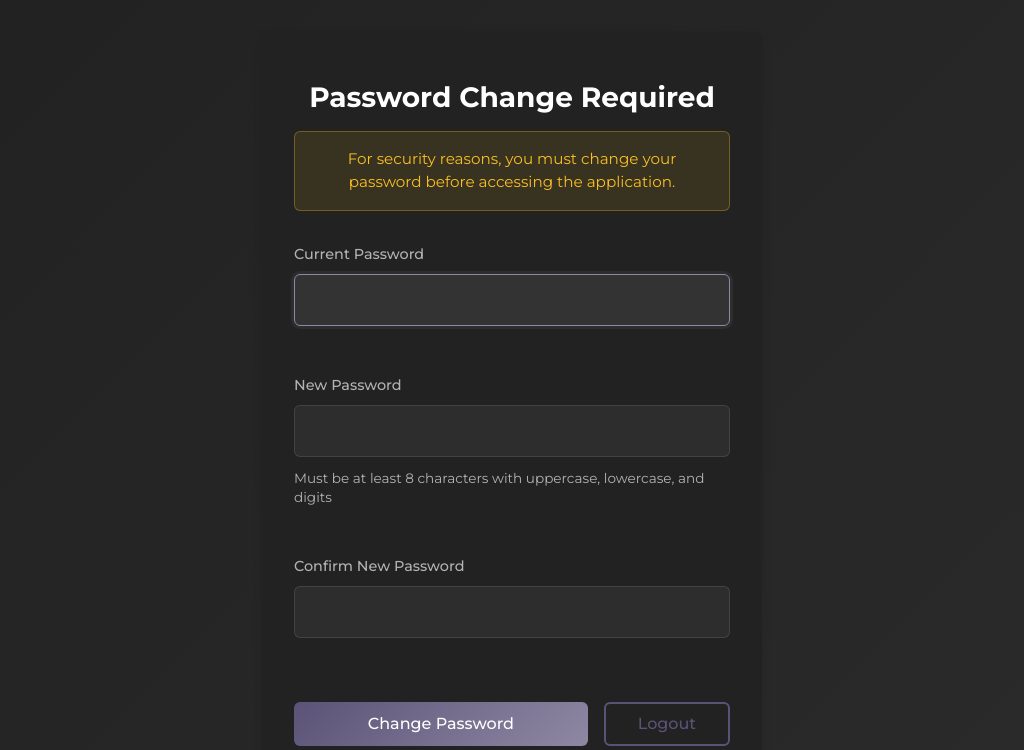
Test: ForcePasswordChangePage › Validation › shows error when password lacks uppercase letter
In the password field labelled "Current Password": [512, 300] box [294,274,730,326], type "OldPass1"
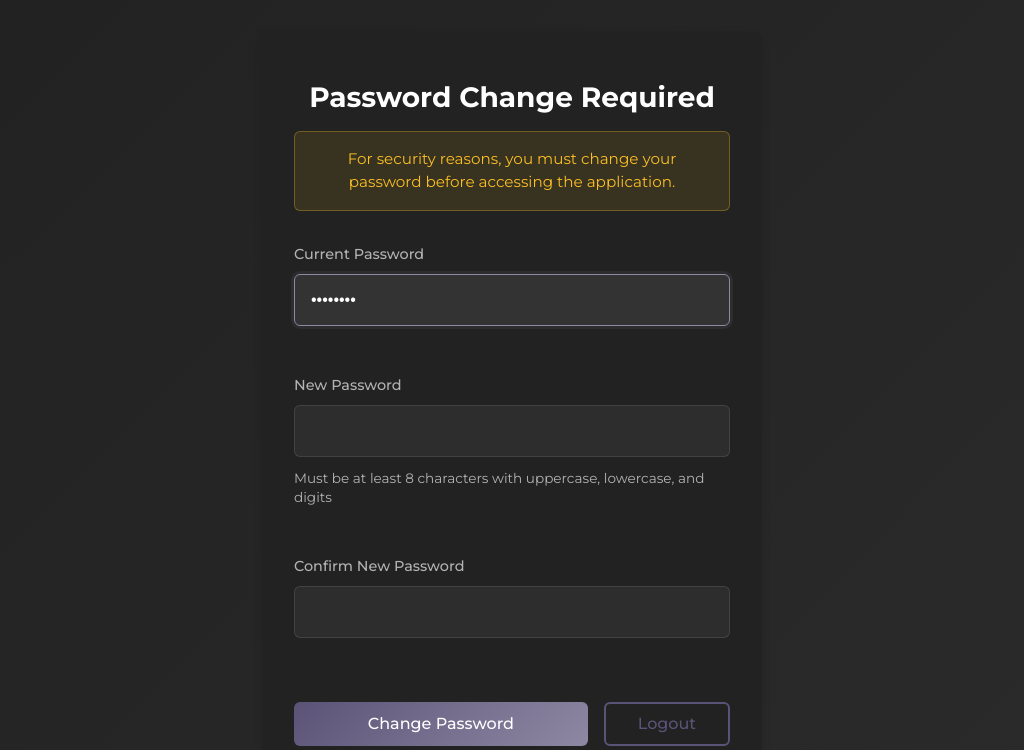
In the password field labelled "New Password": [512, 431] box [294,405,730,457], type "newpass123"
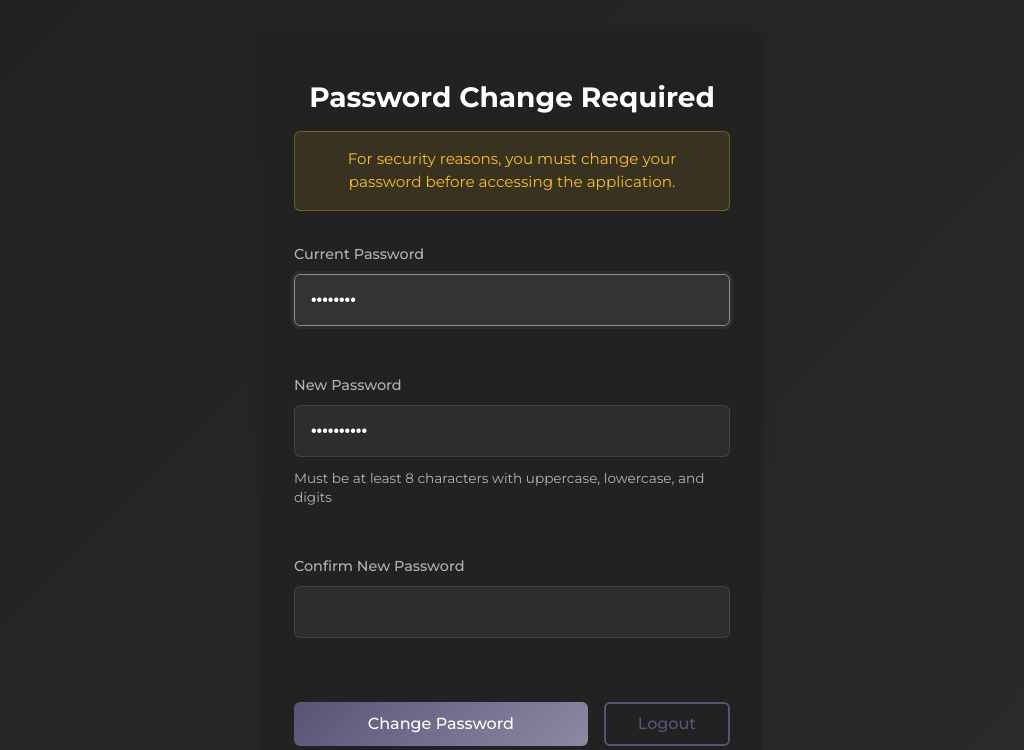
In the password field labelled "Confirm New Password": [512, 612] box [294,586,730,638], type "newpass123"
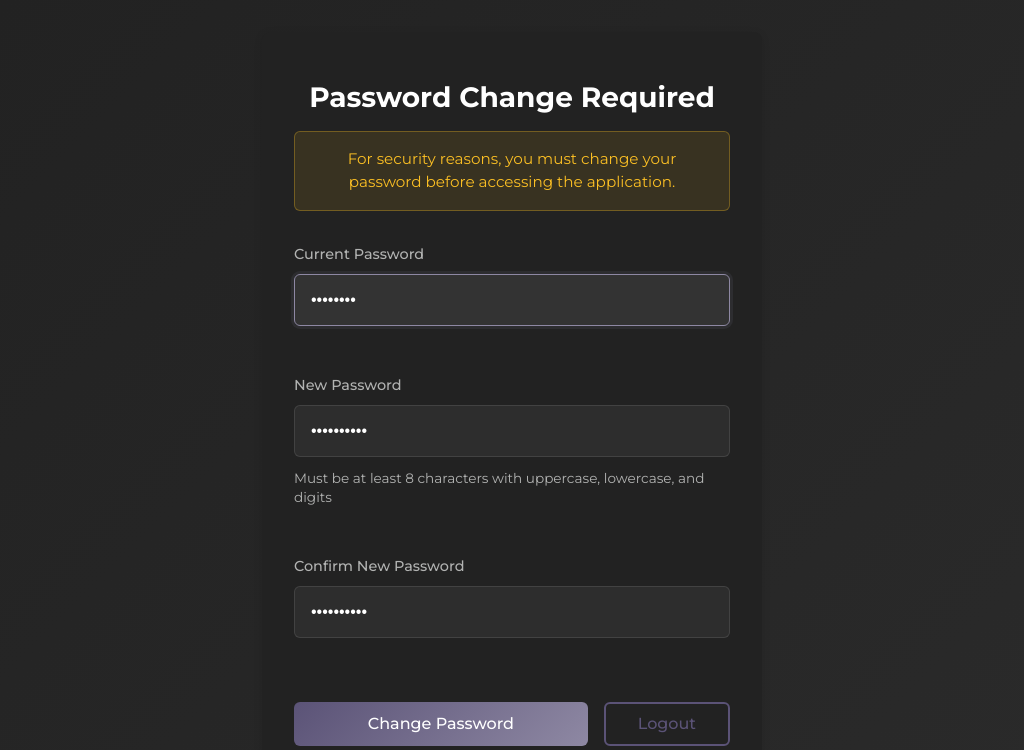
Submit the form named "change password", box [294,243,730,746]
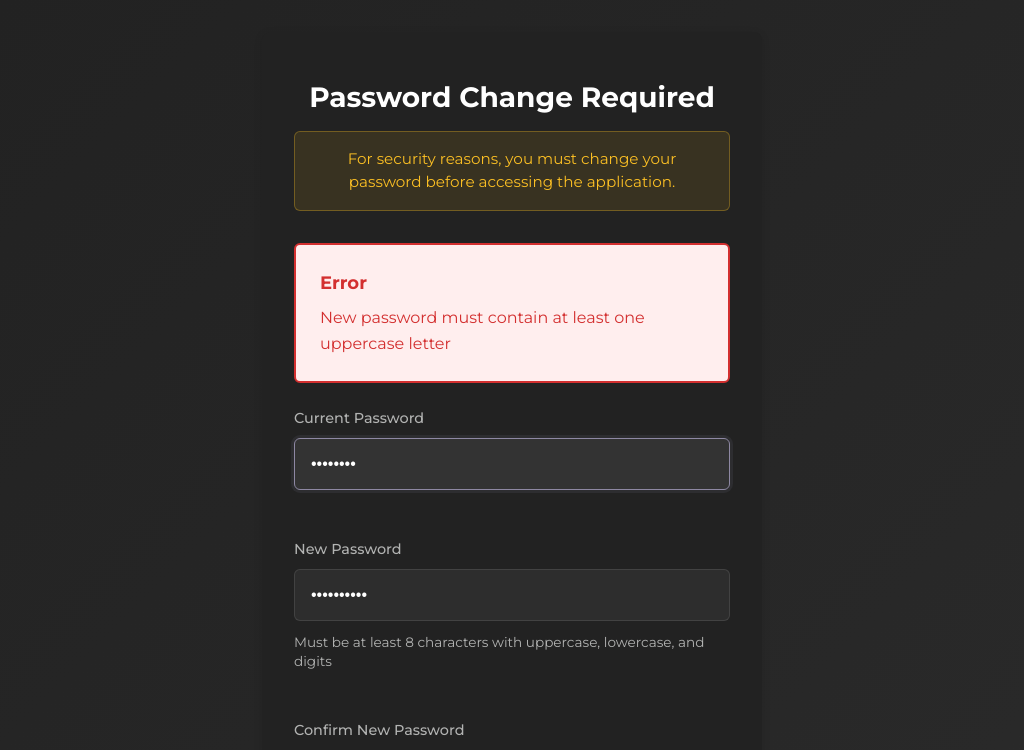
Check: the text "New password must contain at least one uppercase letter" is shown, box [320,308,645,353]
